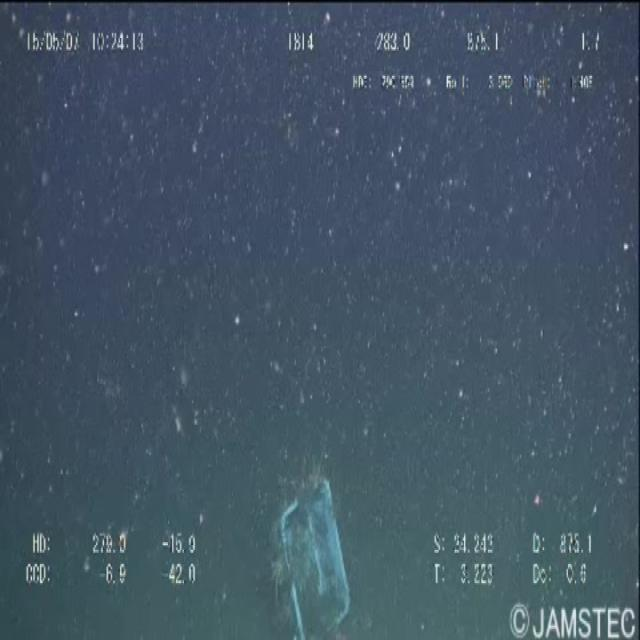Cutlery: (263, 465, 373, 640)
